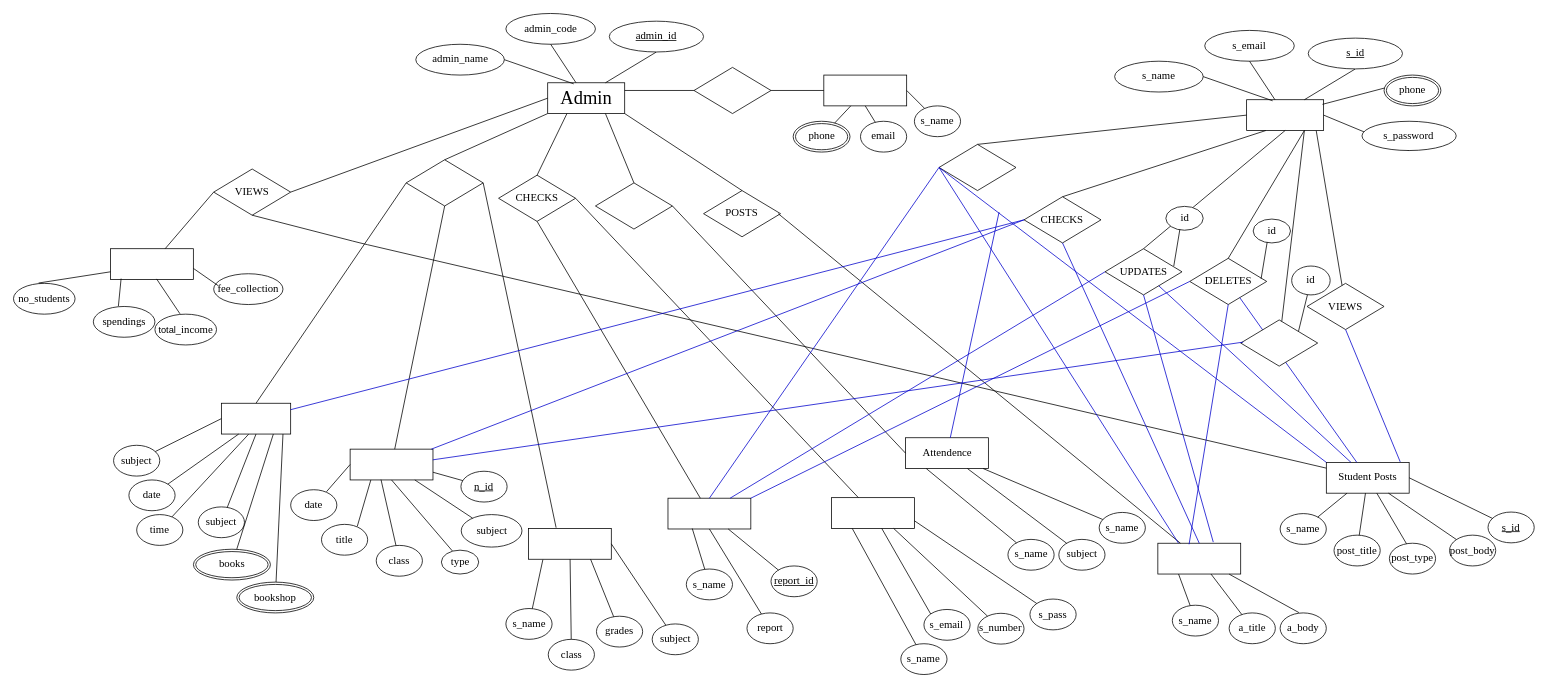
Some shapes in this 1548 by 688 pixel diagram are drawn without their labels. Here are the shapes that lost their labels. From the top down, the centre of each, then its label:
the point at 732,90: EMAILS
the point at 865,90: Parents
the point at 1285,115: Student
the point at 444,182: UPLOADS
the point at 977,167: ADDS
the point at 633,205: GIVES
the point at 151,264: Income Tab
the point at 1279,342: SEARCHES
the point at 256,418: Class Schedule
the point at 391,464: Notice
the point at 709,513: Assistance Reports
the point at 872,512: Registered Students
the point at 569,543: Mark Sheet
the point at 1199,558: Assignments
